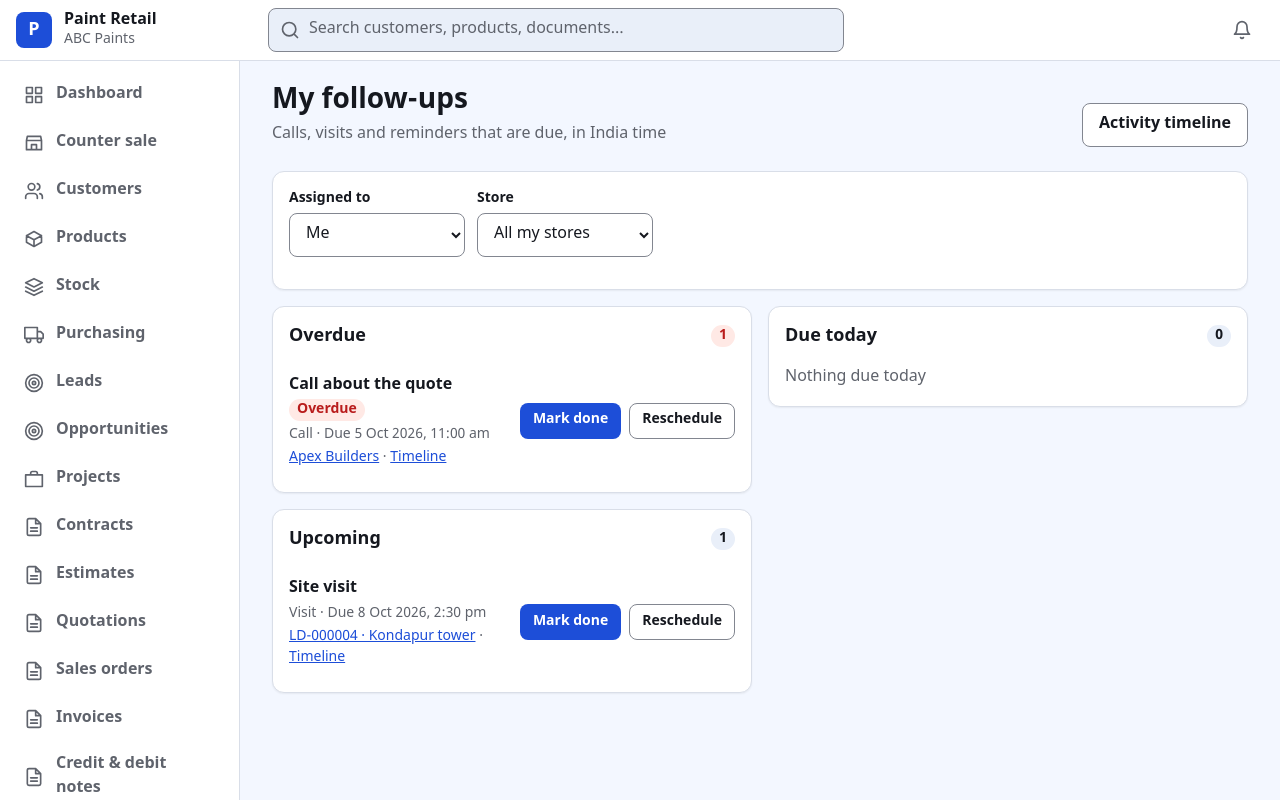
it: FollowUpsPage › reschedules a follow-up in India time
Click the button with aria-label "Reschedule “Call about the quote”" at [682, 421], box [629,403,735,439]
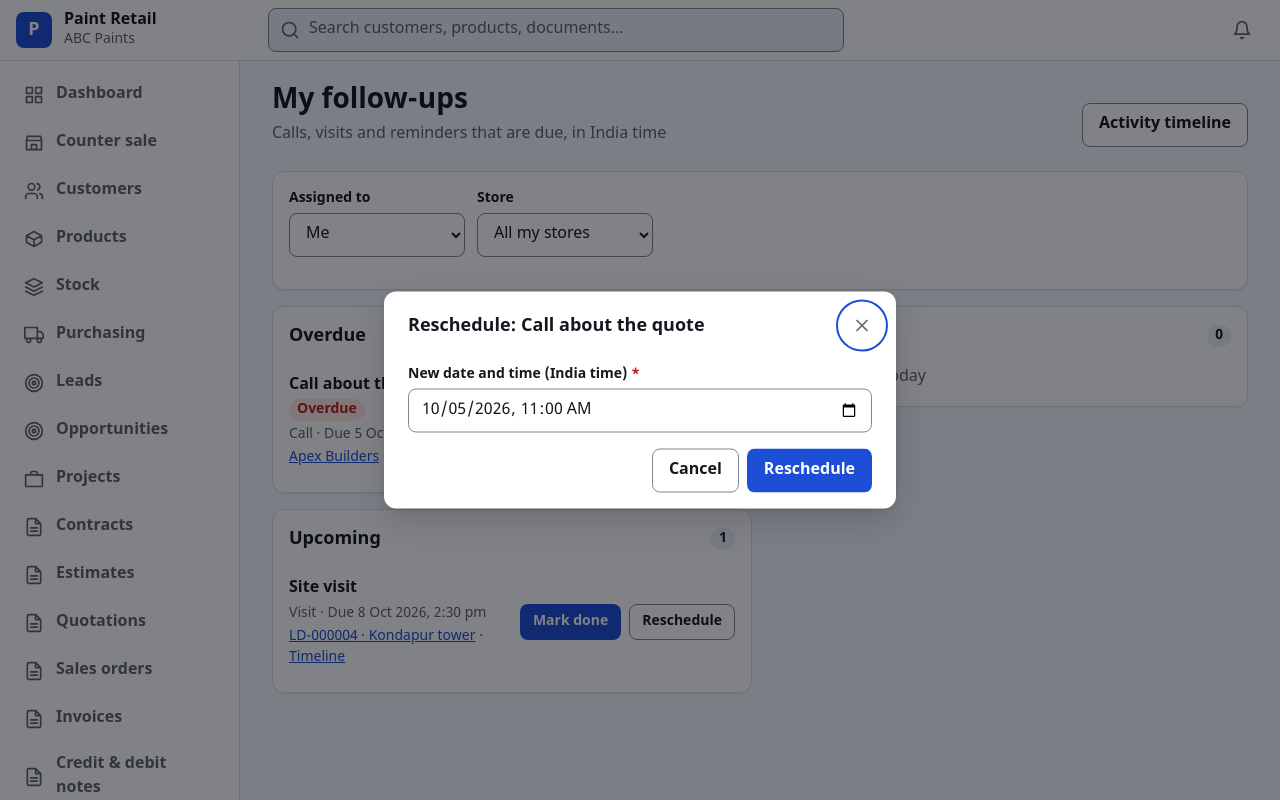
Now the field labelled "New date and time (India time) *" holds "2026-10-05T11:00"
Clear the field labelled "New date and time (India time) *" at [640, 410], box [408,388,872,432]
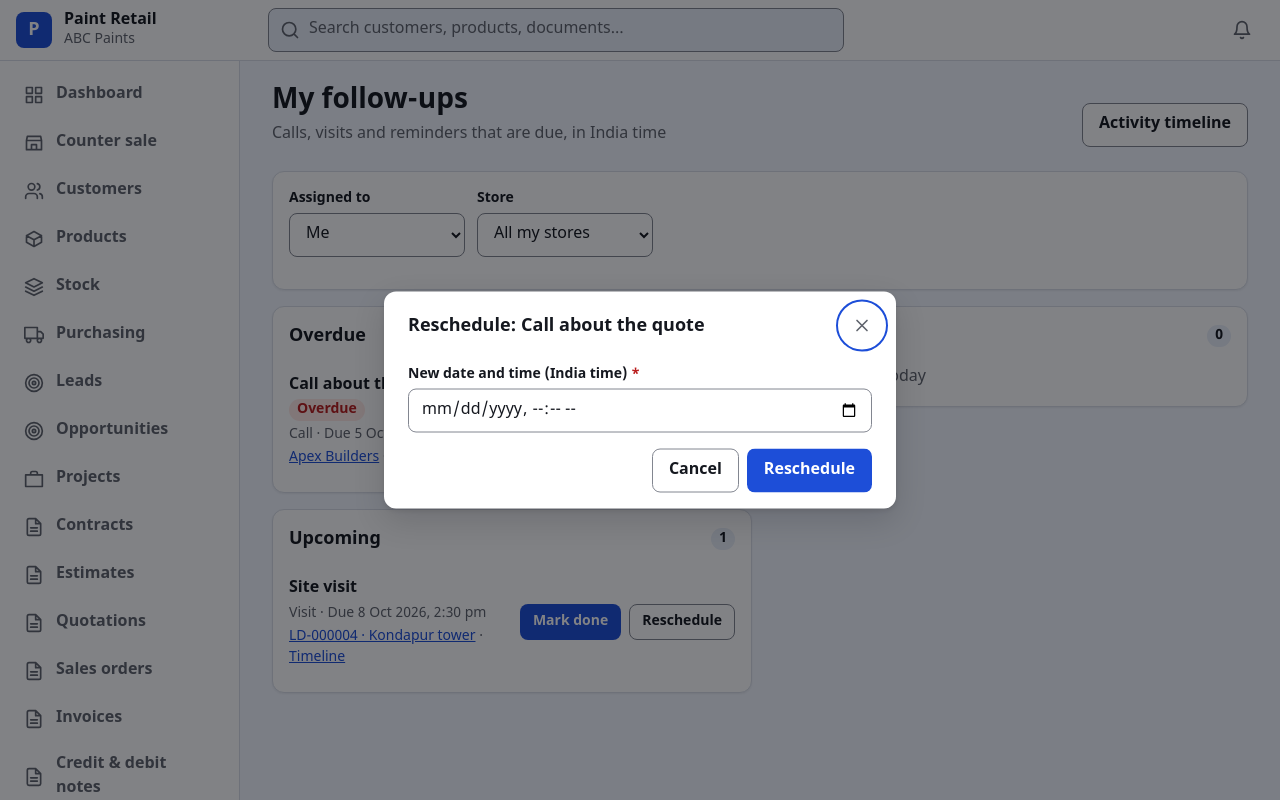
Click the button "Reschedule" at [809, 470], box [747,448,872,492]
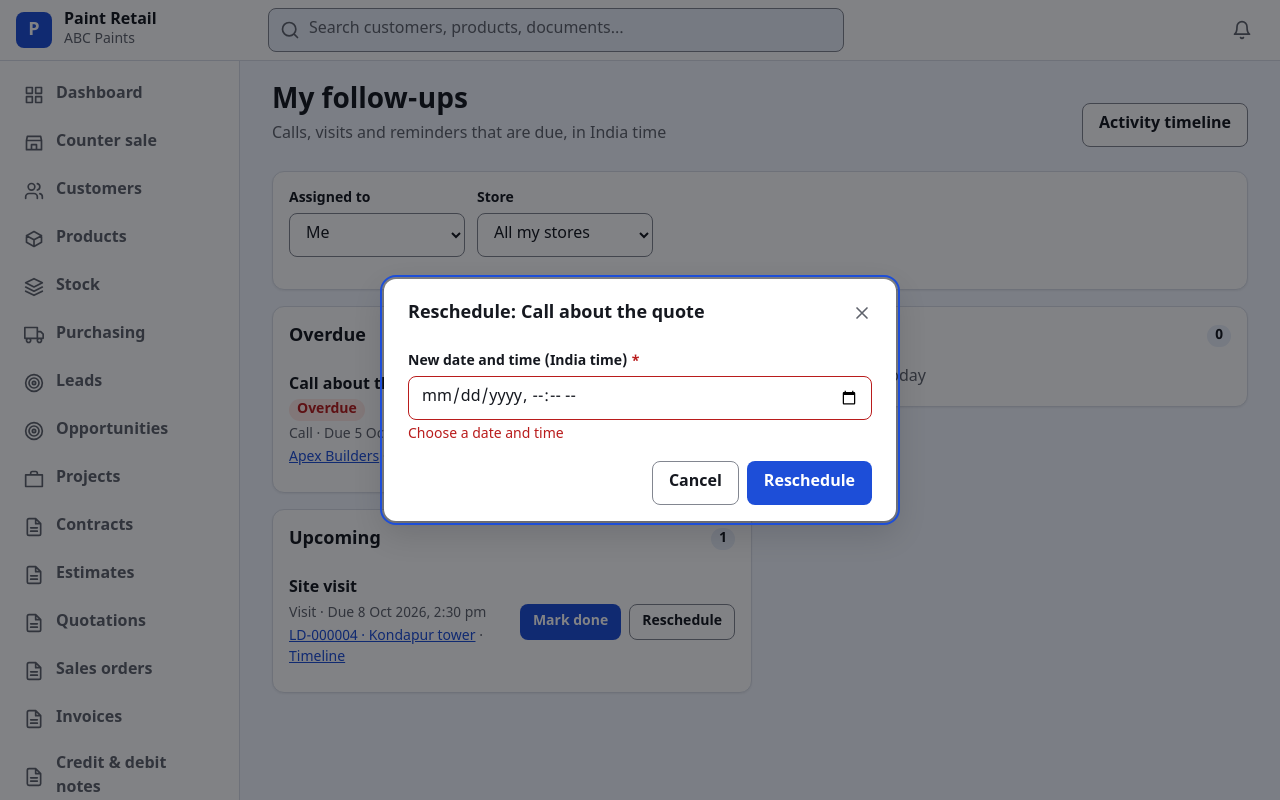
Now the text "Choose a date and time" is shown, box [408,425,564,444]
Type "2026-10-09T12:00" into the field labelled "New date and time (India time) *" at [640, 398], box [408,376,872,420]
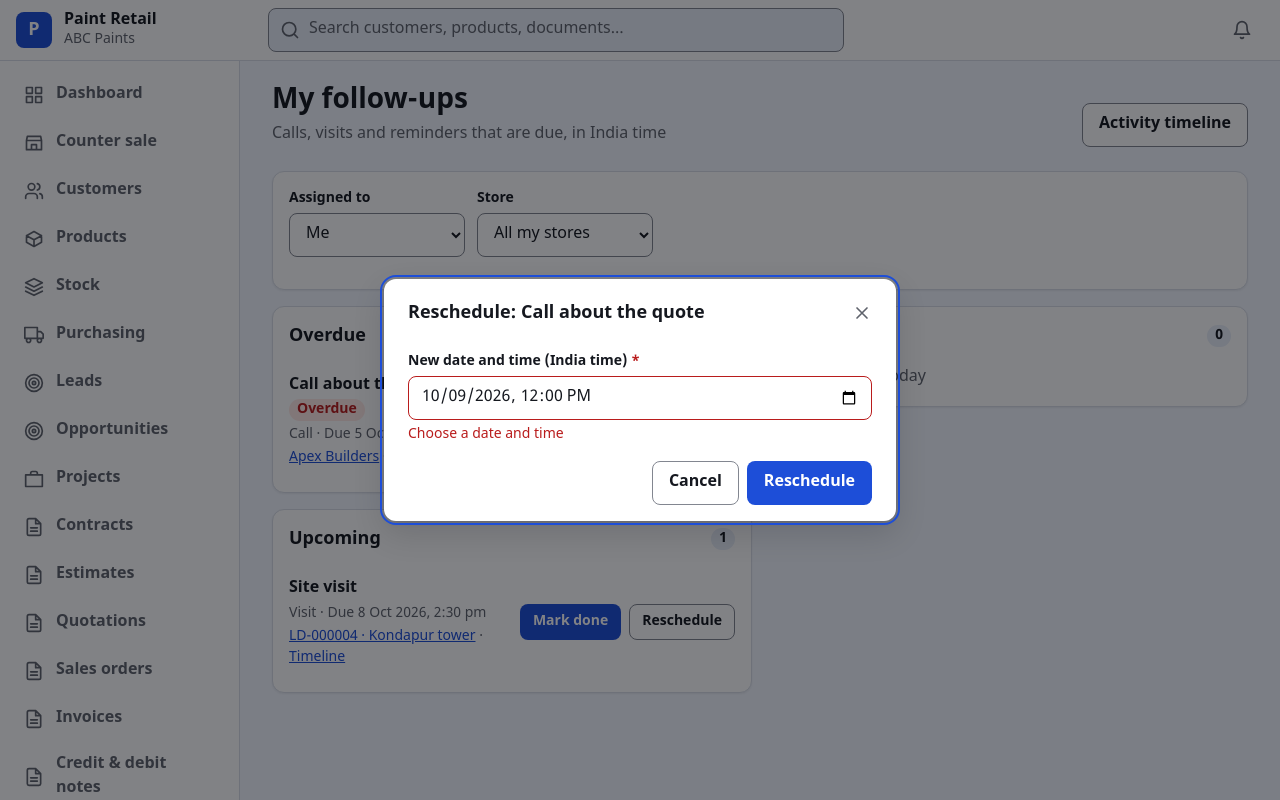
Click the button "Reschedule" at [809, 483], box [747,461,872,505]
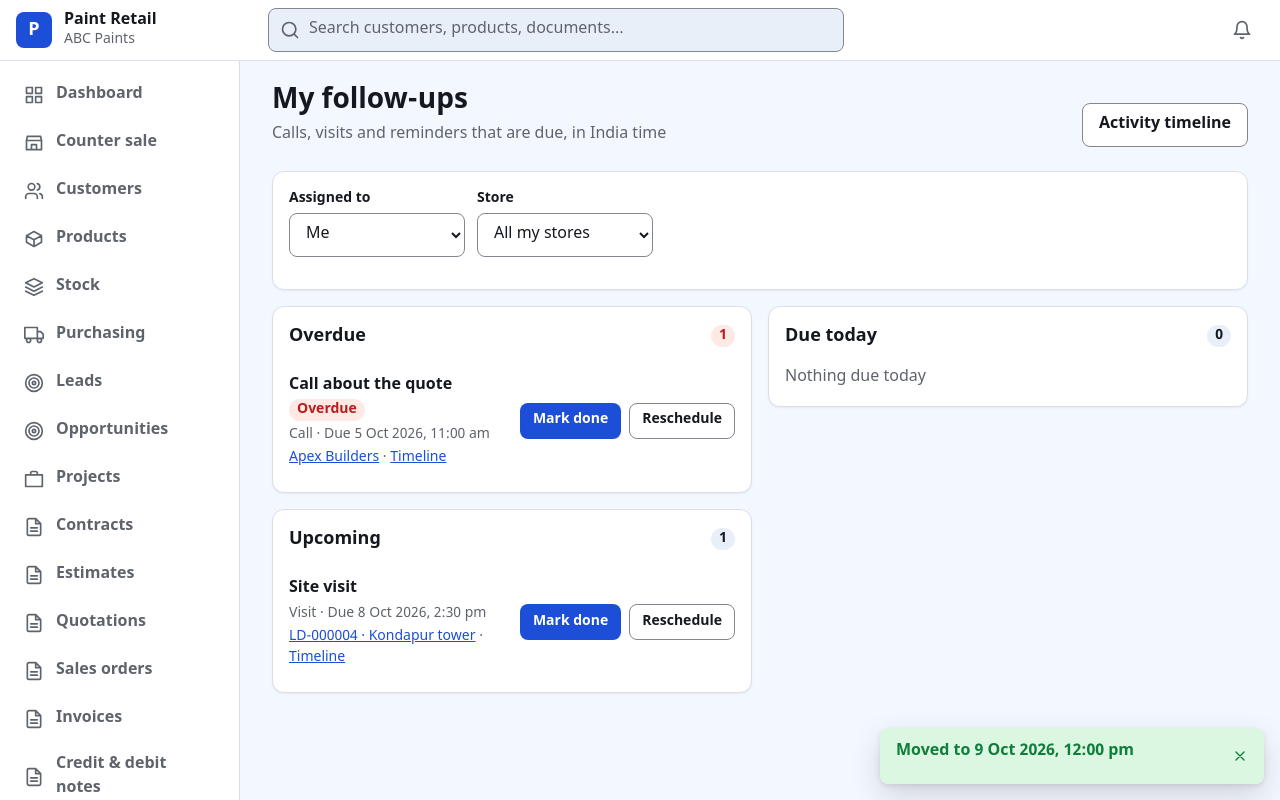
Now the text "Moved to 9 Oct 2026, 12:00 pm" is shown, box [896,741,1134,762]
